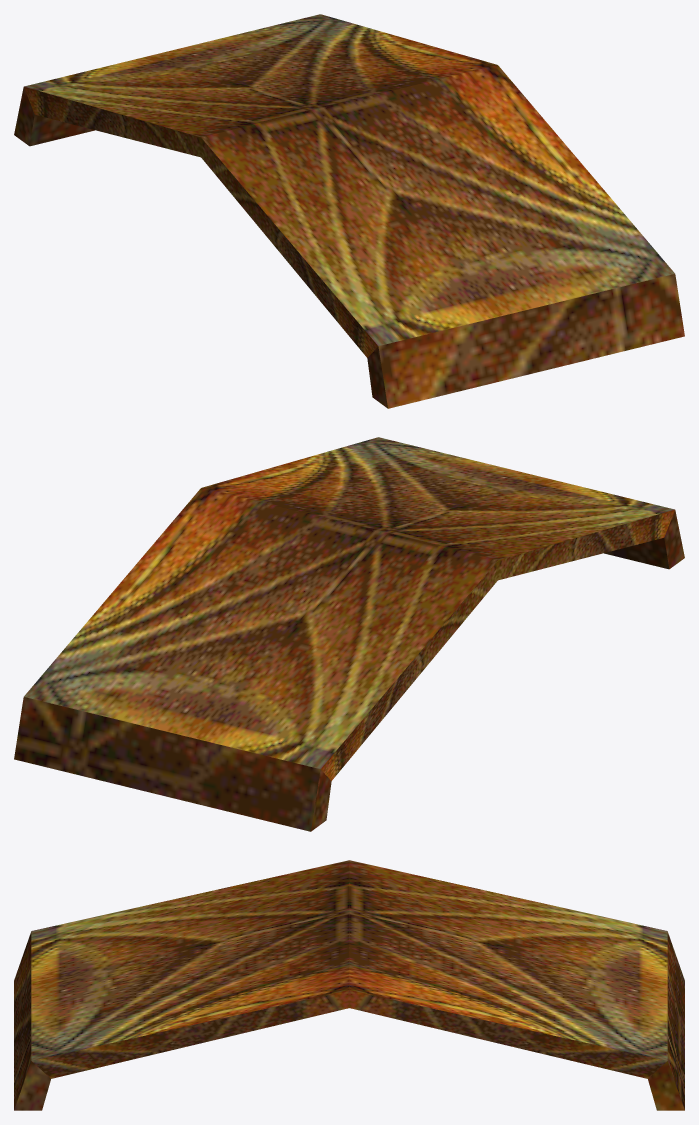
The model's file is Ceiling02.fbx.
The picture shows the model from 3 angles, top to bottom: view 1: azimuth 30°, elevation 25°; view 2: azimuth 150°, elevation 25°; view 3: azimuth 270°, elevation 25°; orthographic projection. The views are drawn at different scales.
Visible parts, largest first — view 1: Ceiling02; view 2: Ceiling02; view 3: Ceiling02.
Boxes of the visible parts, x1,y1,x2,y2 form: Ceiling02: (14,14,684,408); Ceiling02: (14,437,684,831); Ceiling02: (14,860,684,1110).
Bounding box in the file's own units: 400 × 173 × 873.
